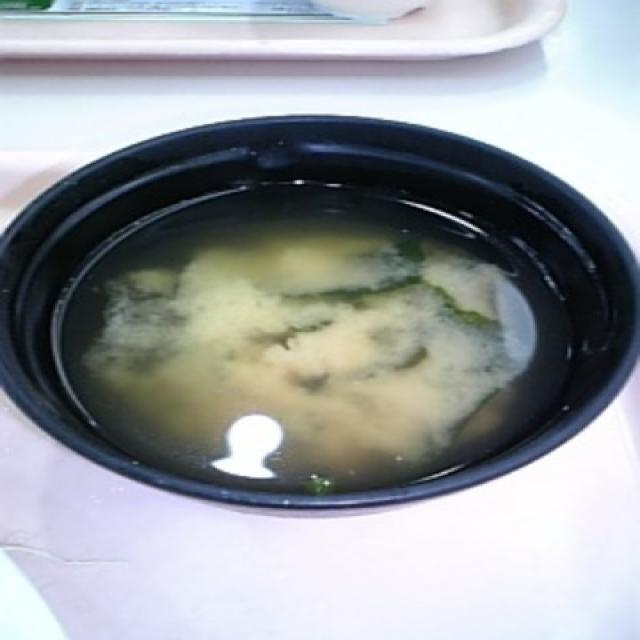汤锅炖物: (16, 132, 576, 496)
